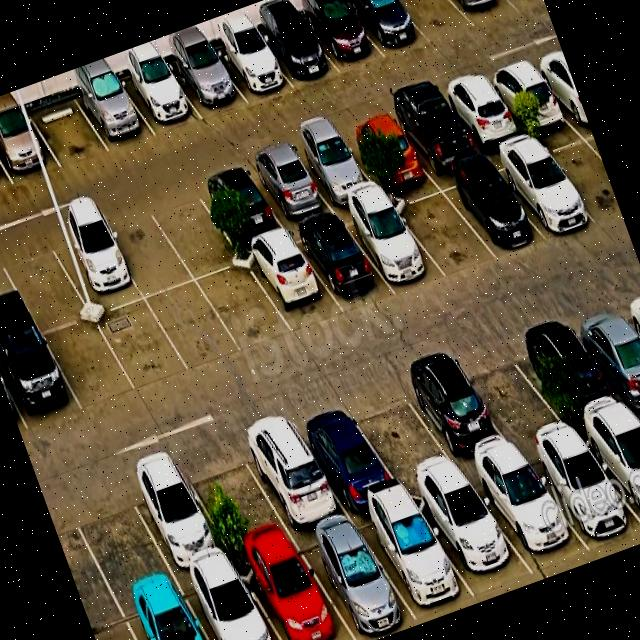empty: (452, 332, 573, 452), (175, 436, 293, 558), (62, 472, 174, 600), (342, 376, 463, 492), (388, 182, 496, 277), (145, 184, 244, 281), (534, 121, 623, 222), (99, 204, 194, 298), (95, 299, 191, 392), (0, 237, 91, 333), (146, 282, 243, 372), (44, 318, 136, 411), (198, 265, 293, 352), (28, 96, 110, 167), (395, 0, 475, 44)
occupied: (352, 496, 478, 624), (394, 352, 520, 474), (292, 519, 418, 640), (410, 477, 534, 596), (232, 410, 349, 536), (467, 454, 590, 573), (118, 453, 232, 577), (287, 396, 403, 514), (522, 435, 640, 551), (517, 311, 631, 429), (234, 539, 355, 640), (485, 139, 597, 237), (241, 233, 344, 335), (435, 162, 543, 257), (290, 215, 394, 313), (339, 199, 446, 292), (46, 219, 144, 316), (564, 295, 640, 409), (0, 331, 83, 432), (177, 560, 280, 640), (193, 165, 286, 248), (386, 94, 482, 174), (244, 149, 334, 227), (338, 113, 431, 188), (289, 132, 379, 208), (438, 75, 527, 150), (578, 411, 640, 517), (483, 59, 571, 132), (300, 0, 385, 73), (255, 17, 340, 88), (74, 81, 156, 152), (119, 67, 203, 136), (211, 37, 293, 103), (118, 580, 208, 640), (169, 52, 247, 119), (344, 0, 430, 57), (0, 112, 61, 184), (452, 0, 519, 26)
